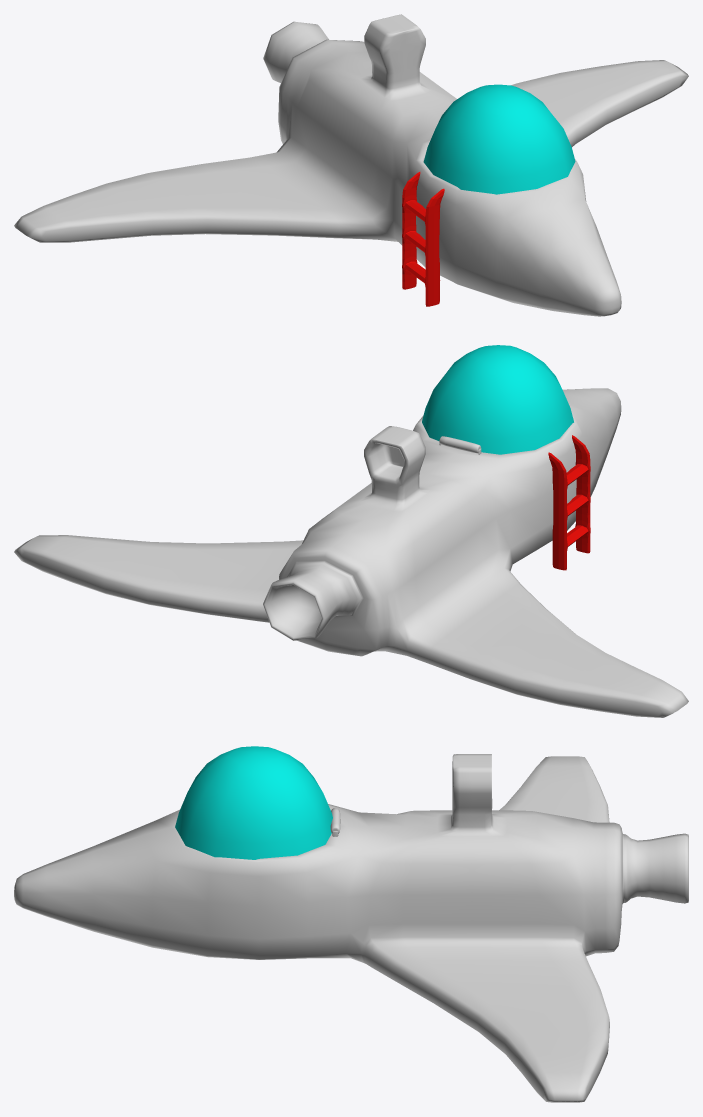
File: NaveGrande.fbx
3 renders of one model, top to bottom at view 1: azimuth 30°, elevation 25°; view 2: azimuth 150°, elevation 25°; view 3: azimuth 270°, elevation 25°, orthographic. The views are drawn at different scales.
Visible parts, largest first — view 1: Cube; view 2: Cube; view 3: Cube.
Boxes of the visible parts, x1,y1,x2,y2 form: Cube: (14, 14, 688, 316); Cube: (14, 345, 688, 717); Cube: (14, 746, 688, 1102).
Size of the model in its own units: 602 by 164 by 503.
